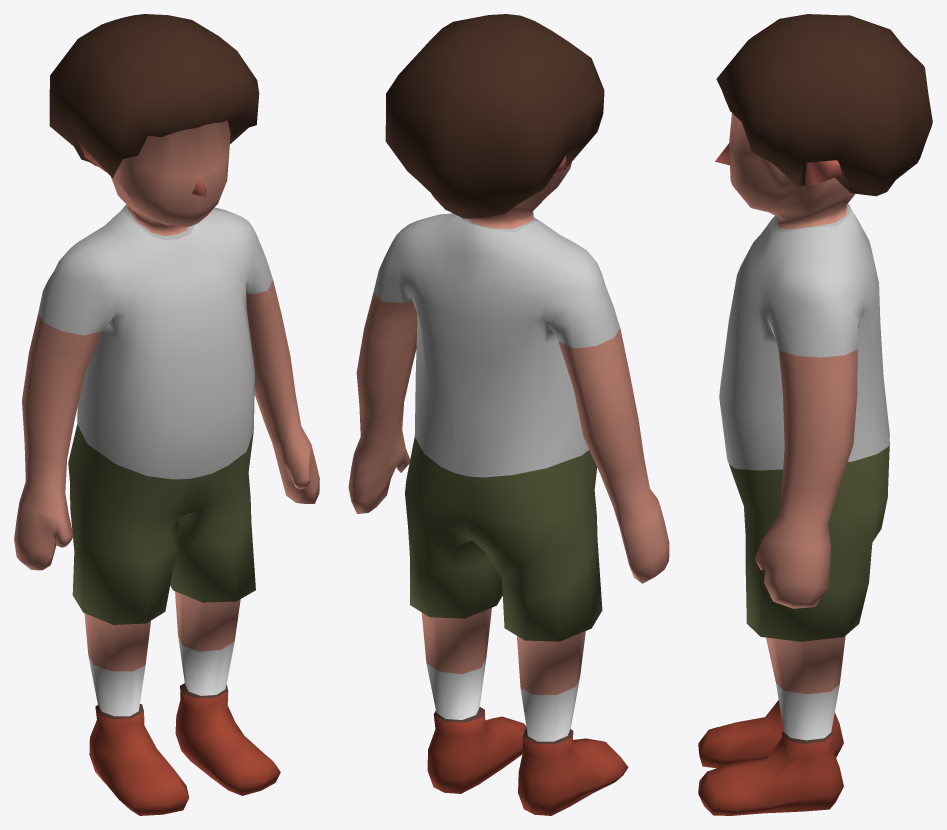
File: CHAR_Kid.fbx
3 renders of one model, left to right at view 1: azimuth 30°, elevation 25°; view 2: azimuth 150°, elevation 25°; view 3: azimuth 270°, elevation 25°, orthographic. The views are drawn at different scales.
Parts seen in each view (by area): view 1: CHAR_Kid; view 2: CHAR_Kid; view 3: CHAR_Kid.
Boxes of the visible parts, x1=… form: CHAR_Kid: x1=14, y1=14, x2=319, y2=815; CHAR_Kid: x1=348, y1=14, x2=669, y2=815; CHAR_Kid: x1=698, y1=14, x2=932, y2=815.
Bounding box in the file's own units: 0.5711 × 1.35 × 0.38.
